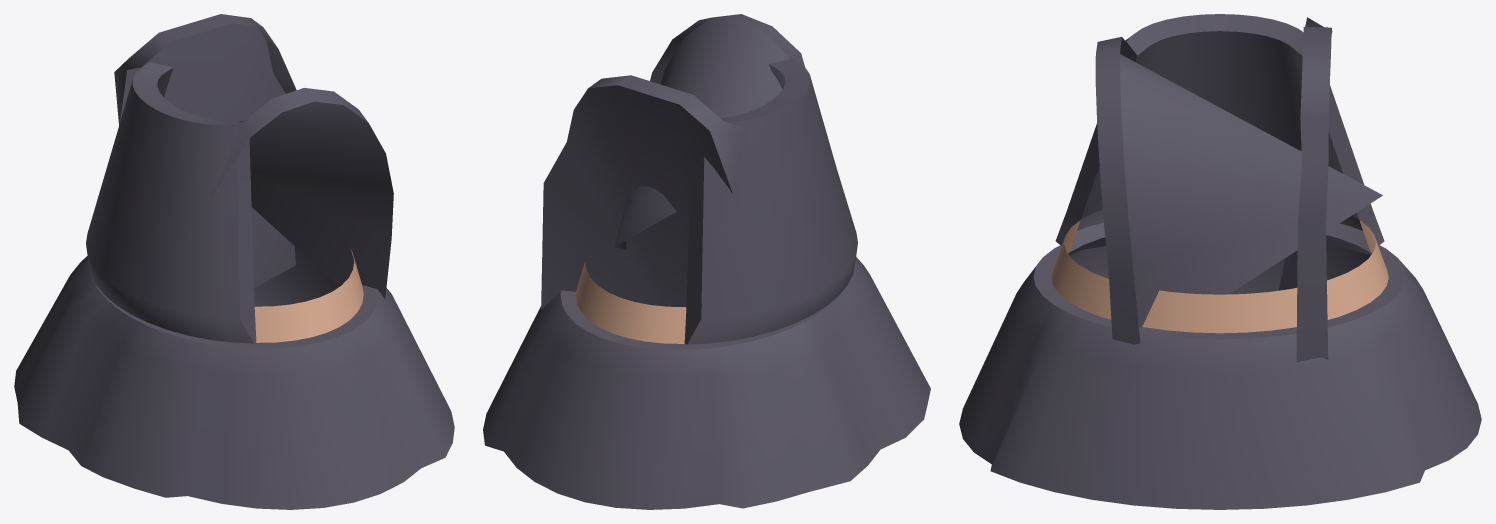
The model's file is figuredress.fbx.
3 renders of one model, left to right at view 1: azimuth 30°, elevation 25°; view 2: azimuth 150°, elevation 25°; view 3: azimuth 270°, elevation 25°, orthographic. The views are drawn at different scales.
Visible parts, largest first — view 1: polySurface54; view 2: polySurface54; view 3: polySurface54.
Part boxes in pixels (x1,y1,x2,y2): polySurface54: [14, 14, 454, 509]; polySurface54: [483, 14, 930, 509]; polySurface54: [959, 14, 1481, 509].
Size of the model in its own units: 2.25 by 2.16 by 2.62.
